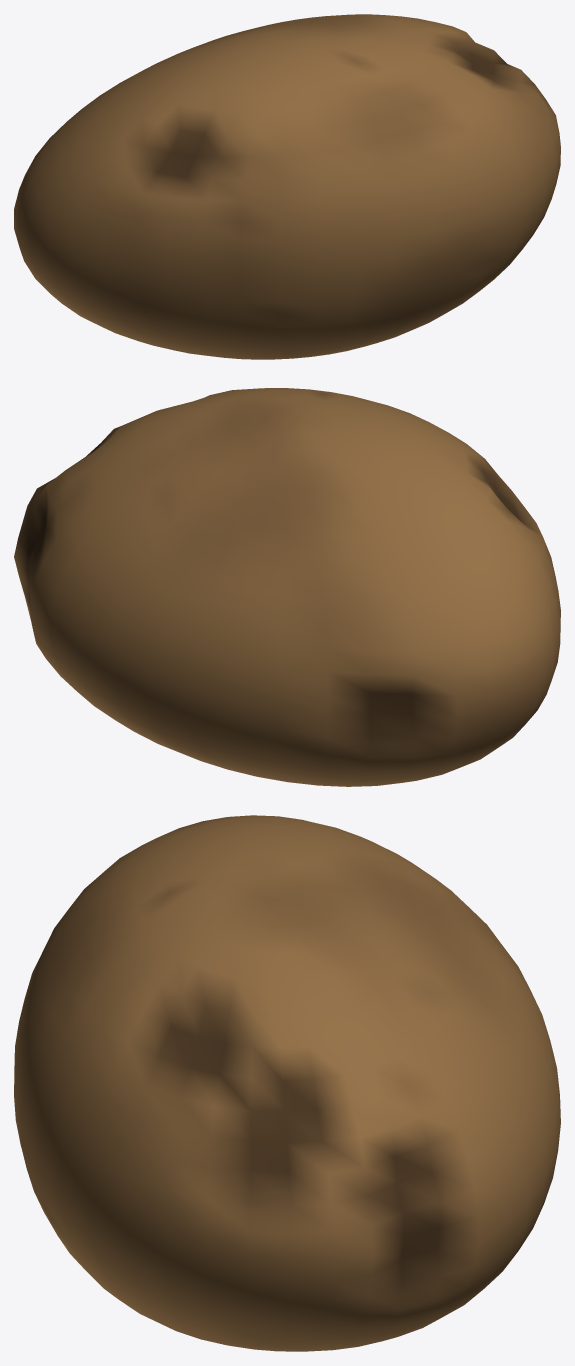
The model's file is potato.glb.
3 views of the same model, one above another, from view 1: azimuth 30°, elevation 25°; view 2: azimuth 150°, elevation 25°; view 3: azimuth 270°, elevation 25° (orthographic). The views are drawn at different scales.
Visible parts, largest first — view 1: Potato_Body; view 2: Potato_Body; view 3: Potato_Body.
Part boxes in pixels (left/top/right/bottom): Potato_Body: left=14, top=14, right=560, bottom=359; Potato_Body: left=14, top=388, right=560, bottom=786; Potato_Body: left=14, top=815, right=560, bottom=1351.
Bounding box in the file's own units: 0.1086 × 0.0647 × 0.0755.
